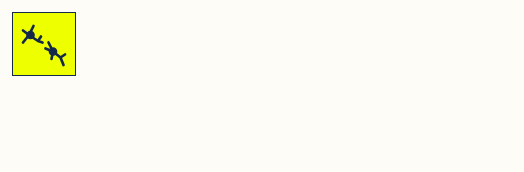
opens the neurociencias-cognitivas-neuropsicologia discovery with the keyboard and closes it on click
The image size is (524, 172).
Expected: the text "através da sinapse" is not shown
Press Tab
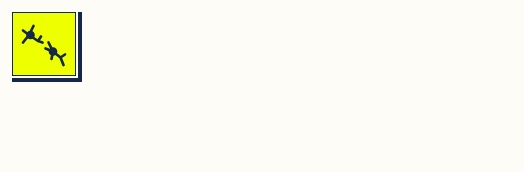
Press Enter
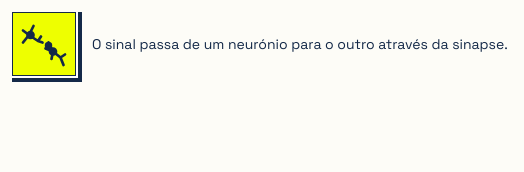
Expected: the text "através da sinapse" is shown, [92,35,508,53]
Click the button named "Descobrir o símbolo de Neurociências": (44, 44) [12,12,76,76]
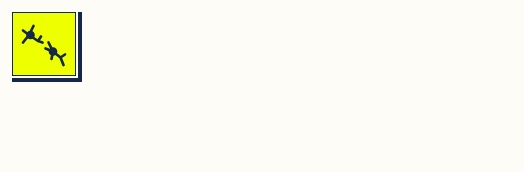
Expected: the text "através da sinapse" is gone
